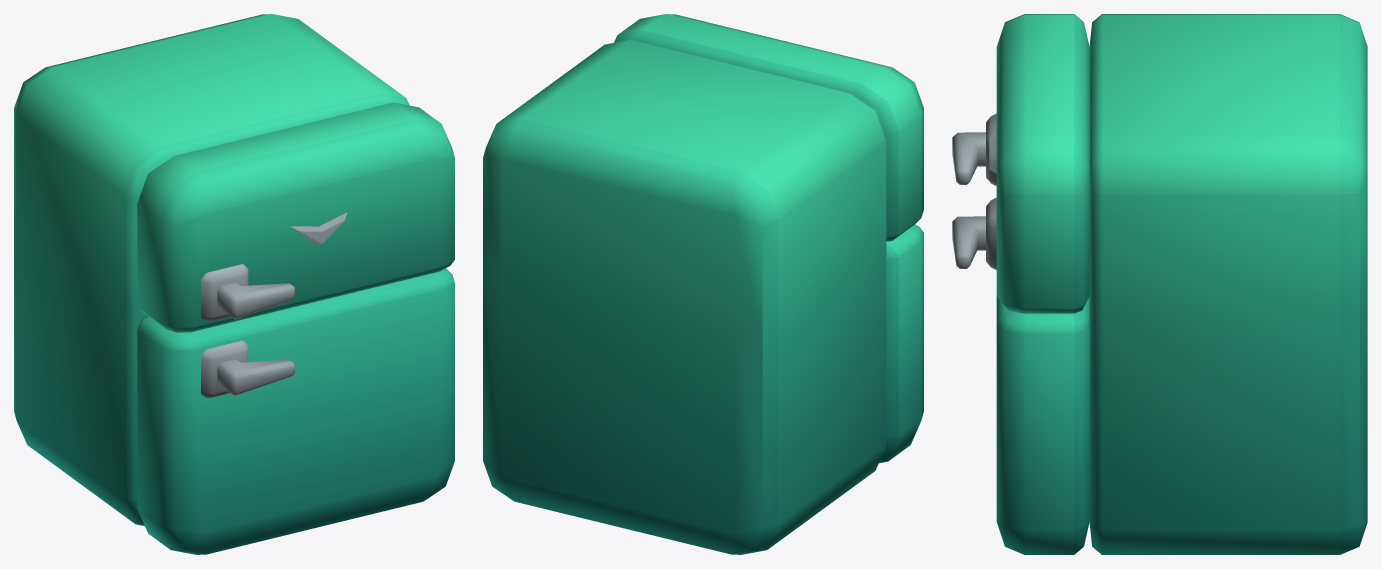
The model's file is fridge.glb.
3 views of the same model, side by side, from view 1: azimuth 30°, elevation 25°; view 2: azimuth 150°, elevation 25°; view 3: azimuth 270°, elevation 25° (orthographic). The views are drawn at different scales.
Parts seen in each view (by area): view 1: fridge_A_decorated, fridge_A_decorated_door_bottom, fridge_A_decorated_door_top; view 2: fridge_A_decorated, fridge_A_decorated_door_top, fridge_A_decorated_door_bottom; view 3: fridge_A_decorated, fridge_A_decorated_door_top, fridge_A_decorated_door_bottom.
Boxes of the visible parts, <box> form: fridge_A_decorated: <box>14,14,409,525</box>; fridge_A_decorated_door_bottom: <box>137,268,454,554</box>; fridge_A_decorated_door_top: <box>137,102,454,332</box>; fridge_A_decorated: <box>483,39,886,554</box>; fridge_A_decorated_door_top: <box>614,14,923,241</box>; fridge_A_decorated_door_bottom: <box>879,224,923,463</box>; fridge_A_decorated: <box>1089,14,1367,554</box>; fridge_A_decorated_door_top: <box>952,14,1089,313</box>; fridge_A_decorated_door_bottom: <box>952,197,1089,554</box>.
Size of the model in its own units: 2 by 2.5 by 2.24.
Materials: 2 (2 with a texture image).
